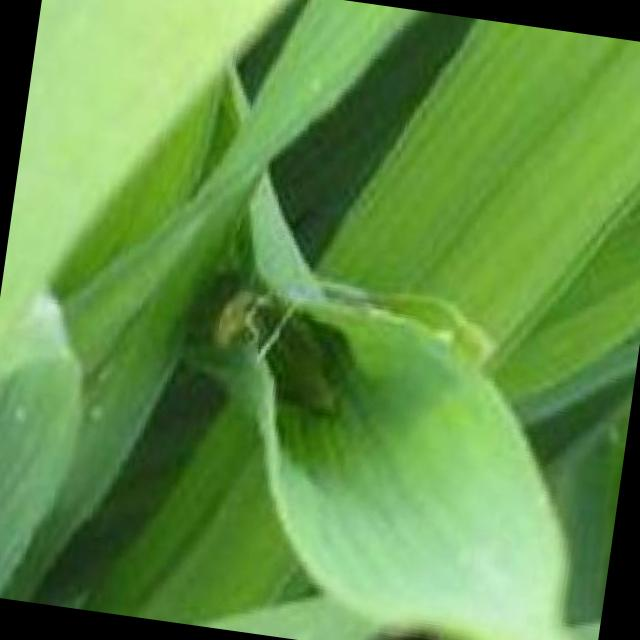leaf-folder: (195, 257, 358, 443)
